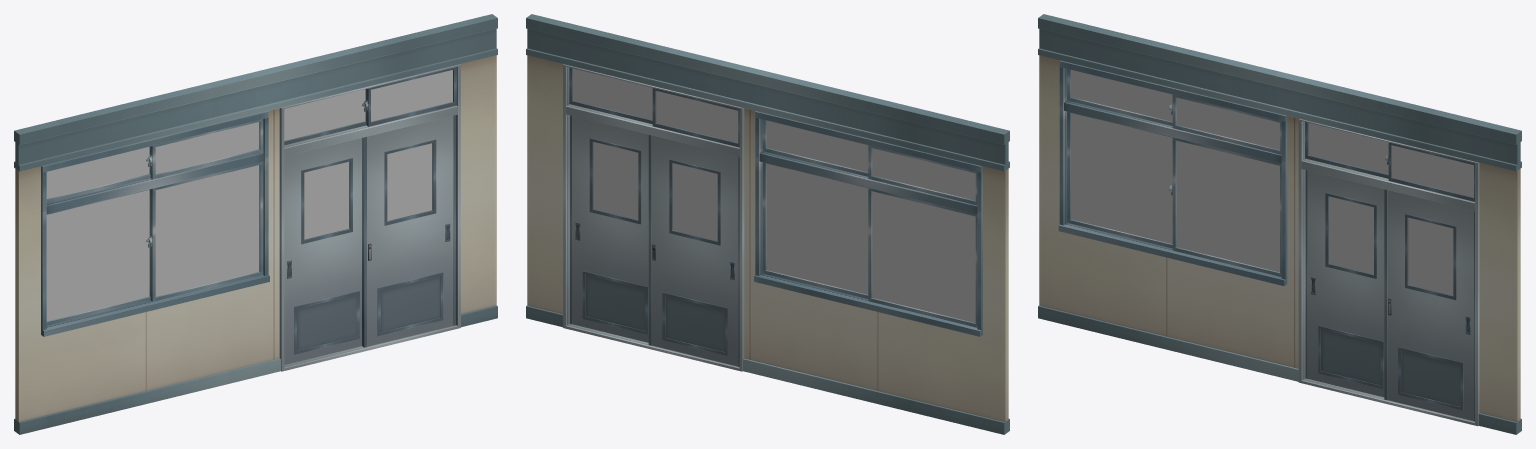
Rendered from KR_Door_01_02.fbx.
3 views of the same model, side by side, from view 1: azimuth 30°, elevation 25°; view 2: azimuth 150°, elevation 25°; view 3: azimuth 330°, elevation 25° (orthographic).
Visible parts, largest first — view 1: wall01, glass_01 (×8), door01_R, door01_L, window, door_01, window01_01 (×2), window01_02 (×2), window02_01, window02_02; view 2: wall01, glass_02 (×8), door01_L, door01_R, window, door_01, window01_02 (×2), window01_01 (×2), window02_02, window02_01; view 3: wall01, glass_01 (×8), door01_R, door01_L, window, door_01, window01_01 (×2), window01_02 (×2), window02_01, window02_02.
Boxes of the visible parts, left/top/right/bottom form: wall01: left=14, top=14, right=497, bottom=434; glass_01 (×8): left=46, top=70, right=452, bottom=321; door01_R: left=362, top=115, right=455, bottom=347; door01_L: left=284, top=138, right=361, bottom=364; window: left=41, top=111, right=269, bottom=336; door_01: left=279, top=64, right=460, bottom=371; window01_01 (×2): left=150, top=89, right=366, bottom=301; window01_02 (×2): left=46, top=67, right=456, bottom=325; window02_01: left=150, top=119, right=263, bottom=179; window02_02: left=46, top=146, right=150, bottom=203; wall01: left=526, top=14, right=1009, bottom=434; glass_02 (×8): left=572, top=68, right=975, bottom=322; door01_L: left=648, top=135, right=739, bottom=366; door01_R: left=570, top=115, right=648, bottom=342; window: left=754, top=111, right=982, bottom=336; door_01: left=563, top=64, right=744, bottom=371; window01_02 (×2): left=569, top=67, right=977, bottom=327; window01_01 (×2): left=652, top=88, right=868, bottom=298; window02_02: left=868, top=145, right=977, bottom=205; window02_01: left=762, top=119, right=868, bottom=176; wall01: left=1038, top=14, right=1521, bottom=434; glass_01 (×8): left=1071, top=70, right=1473, bottom=295; door01_R: left=1384, top=189, right=1474, bottom=421; door01_L: left=1305, top=170, right=1384, bottom=397; window: left=1058, top=60, right=1287, bottom=286; door_01: left=1298, top=119, right=1479, bottom=426; window01_01 (×2): left=1172, top=122, right=1388, bottom=276; window01_02 (×2): left=1067, top=111, right=1474, bottom=248; window02_01: left=1172, top=94, right=1281, bottom=154; window02_02: left=1067, top=69, right=1172, bottom=125.
Bounding box in the file's own units: 500 × 300 × 17.
